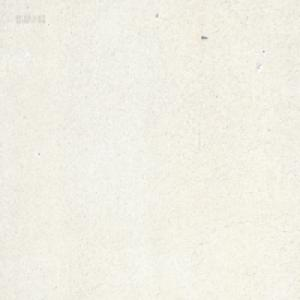Nail: (201, 34, 207, 39)
